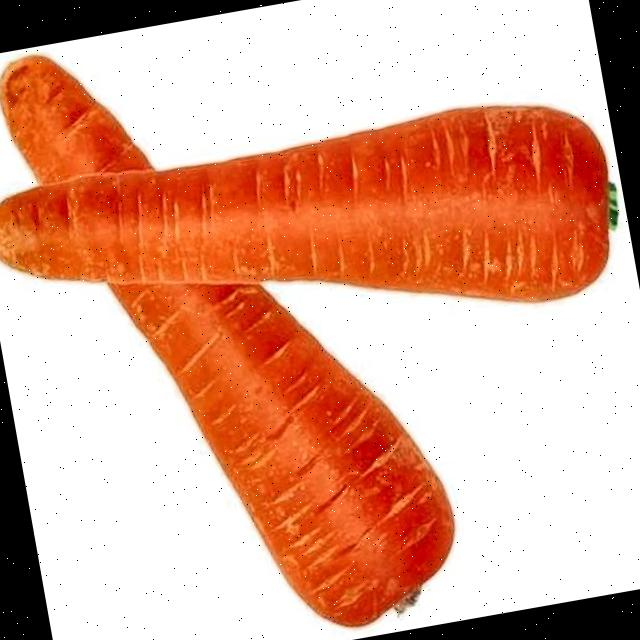carrot: (0, 54, 452, 624), (0, 108, 607, 301)
